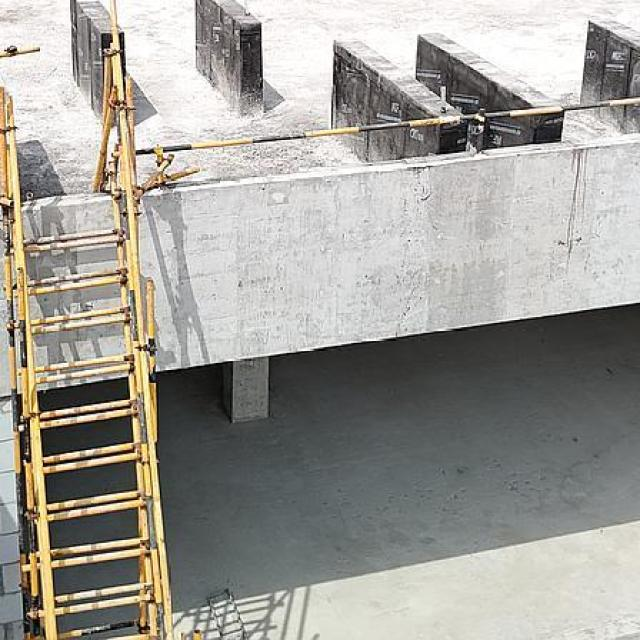Guardrail: (130, 96, 640, 191)
